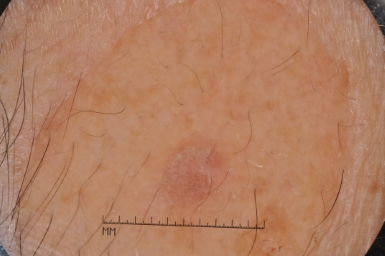seborrheic keratosis: (146, 128, 229, 213)
